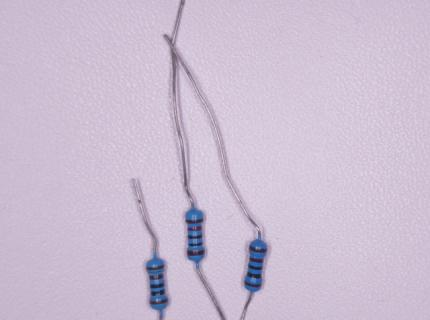Black band: (151, 289, 165, 296), (247, 271, 261, 278), (150, 282, 164, 288), (248, 264, 262, 270)
Brown band: (249, 245, 267, 253), (150, 298, 168, 304), (147, 264, 164, 270), (245, 281, 262, 287), (250, 256, 263, 263), (149, 274, 163, 280)
